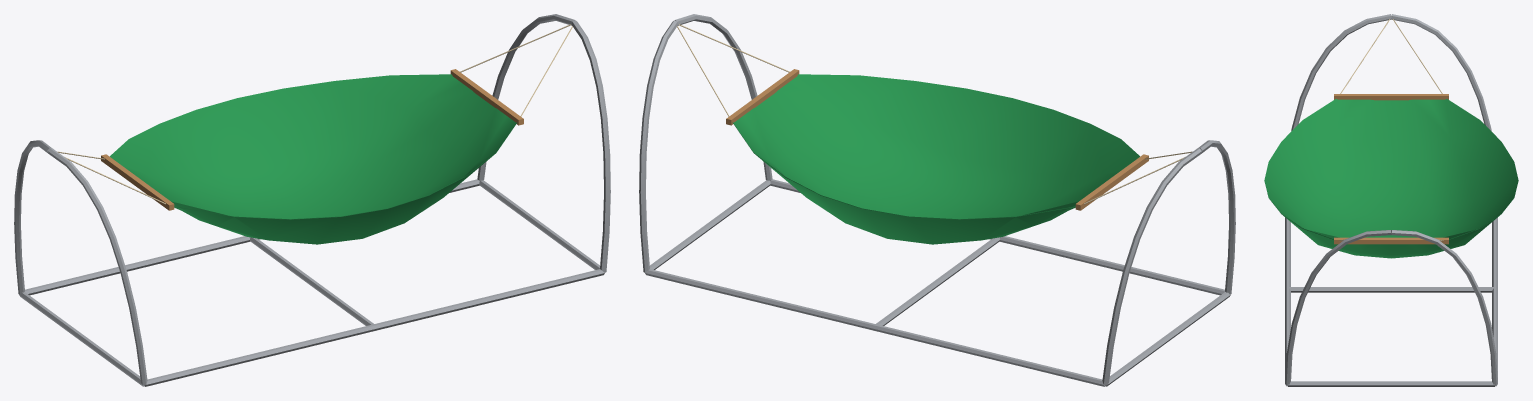
File: hammock_stand_iron.far.glb
3 renders of one model, left to right at view 1: azimuth 30°, elevation 25°; view 2: azimuth 150°, elevation 25°; view 3: azimuth 270°, elevation 25°, orthographic. The views are drawn at different scales.
Visible parts, largest first — view 1: net_hammock_stand_iron, hammock_stand_iron; view 2: net_hammock_stand_iron, hammock_stand_iron; view 3: net_hammock_stand_iron, hammock_stand_iron.
Part boxes in pixels (<box>): net_hammock_stand_iron: <box>57,24,572,244</box>; hammock_stand_iron: <box>14,14,610,386</box>; net_hammock_stand_iron: <box>677,24,1192,244</box>; hammock_stand_iron: <box>639,14,1235,386</box>; net_hammock_stand_iron: <box>1264,19,1518,258</box>; hammock_stand_iron: <box>1285,14,1497,386</box>.
Size of the model in its own units: 2.43 by 0.8811 by 1.2.
